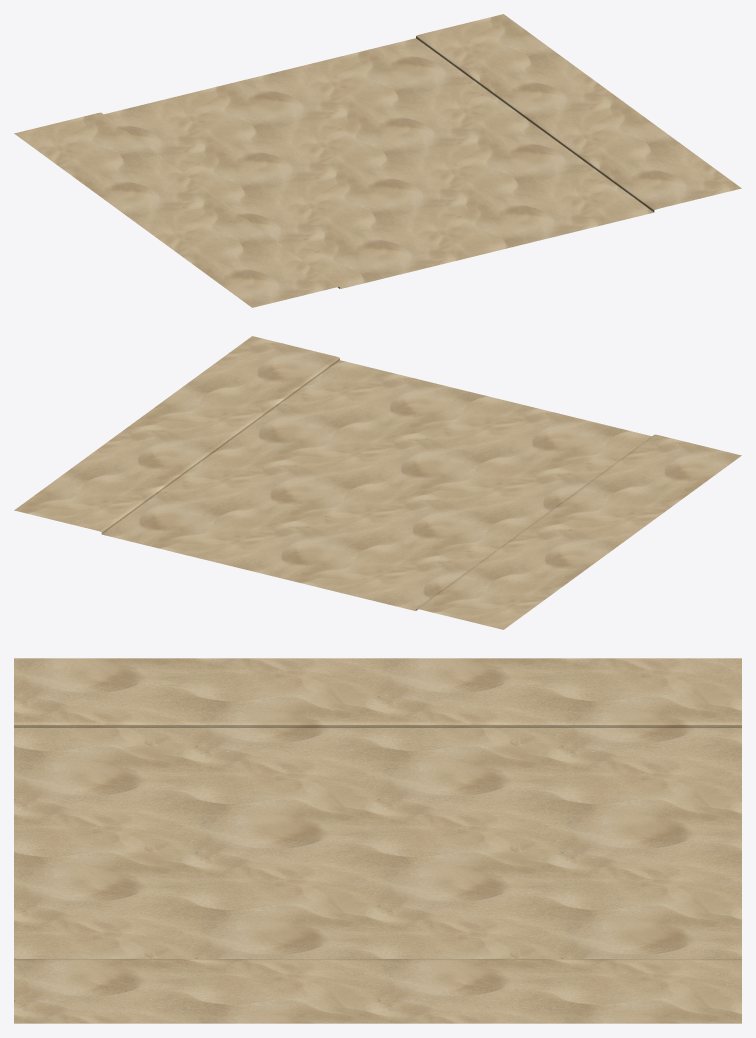
File: SandRoad.fbx
3 views of the same model, one above another, from view 1: azimuth 30°, elevation 25°; view 2: azimuth 150°, elevation 25°; view 3: azimuth 270°, elevation 25° (orthographic). The views are drawn at different scales.
Parts seen in each view (by area): view 1: pasted__pPlane1; view 2: pasted__pPlane1; view 3: pasted__pPlane1.
Boxes of the visible parts, x1,y1,x2,y2 form: pasted__pPlane1: (14, 14, 741, 307); pasted__pPlane1: (14, 336, 741, 629); pasted__pPlane1: (14, 658, 741, 1023).
Size of the model in its own units: 1191 by 6.29 by 1003.
1 material, 1 textured.
